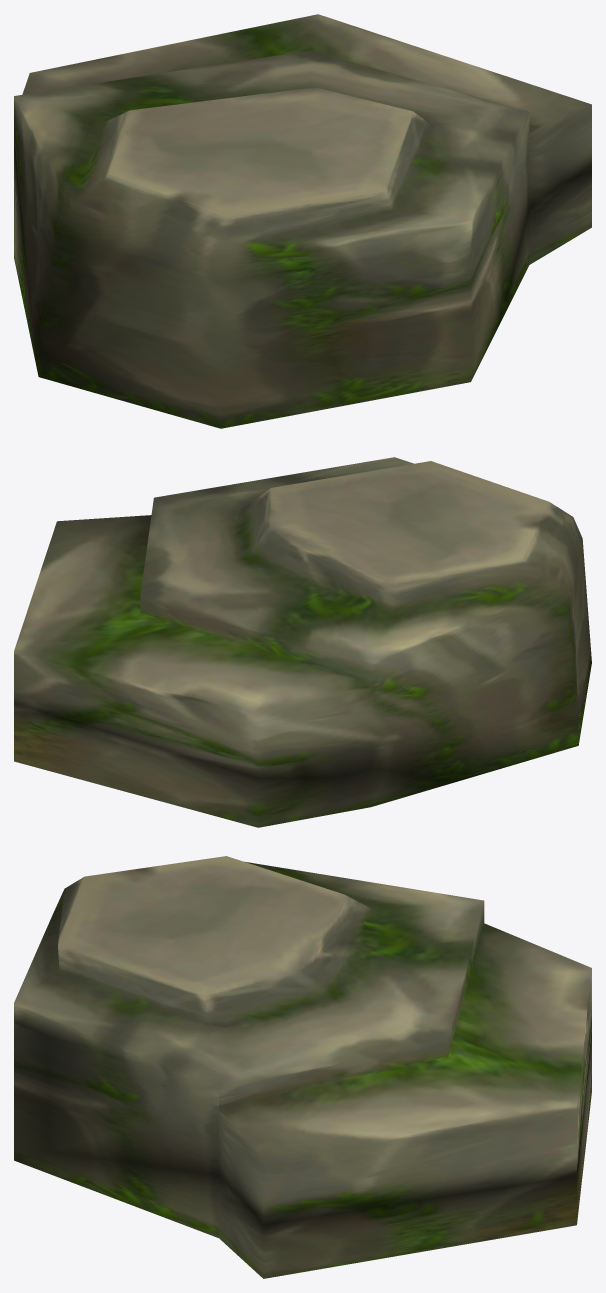
Rendered from RockFormation_4_5 (6).fbx.
The picture shows the model from 3 angles, top to bottom: view 1: azimuth 30°, elevation 25°; view 2: azimuth 150°, elevation 25°; view 3: azimuth 270°, elevation 25°; orthographic projection. The views are drawn at different scales.
Parts seen in each view (by area): view 1: RockFormation_4_5 (6); view 2: RockFormation_4_5 (6); view 3: RockFormation_4_5 (6).
Part boxes in pixels (x1,y1,x2,y2): RockFormation_4_5 (6): (14, 14, 591, 428); RockFormation_4_5 (6): (14, 457, 591, 827); RockFormation_4_5 (6): (14, 856, 591, 1278).
Bounding box in the file's own units: 458 × 146 × 415.
